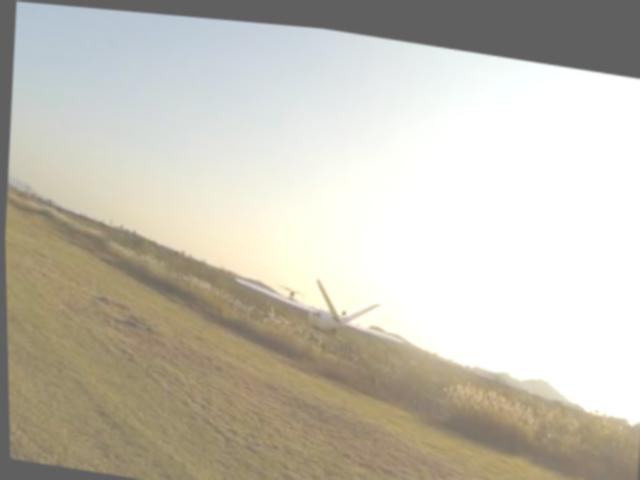uav: (222, 246, 424, 359)
